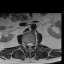CCS_normal: (29, 41, 30, 49)
LFS_normal: (32, 40, 34, 47)
LLS_normal: (30, 41, 32, 48)
RFS_stenosis: (25, 41, 27, 47)
RLS_normal: (27, 41, 29, 47)
